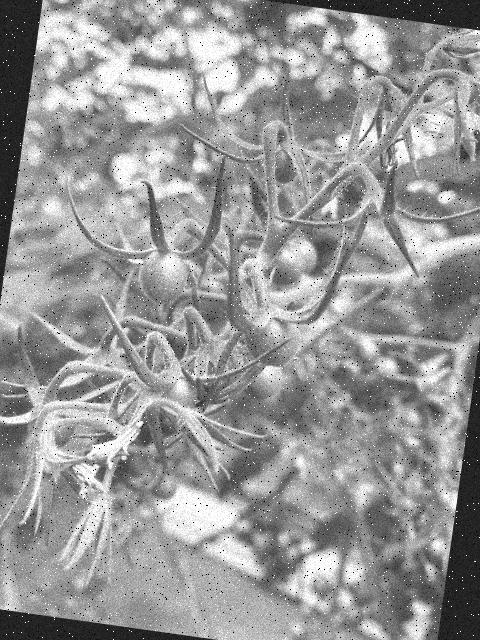l_green: (241, 311, 305, 370), (134, 246, 191, 308), (262, 240, 306, 290), (26, 411, 75, 454), (239, 360, 284, 402), (161, 372, 199, 414), (282, 236, 320, 274), (271, 146, 301, 186), (456, 78, 480, 107), (366, 193, 390, 220), (40, 452, 62, 475)
